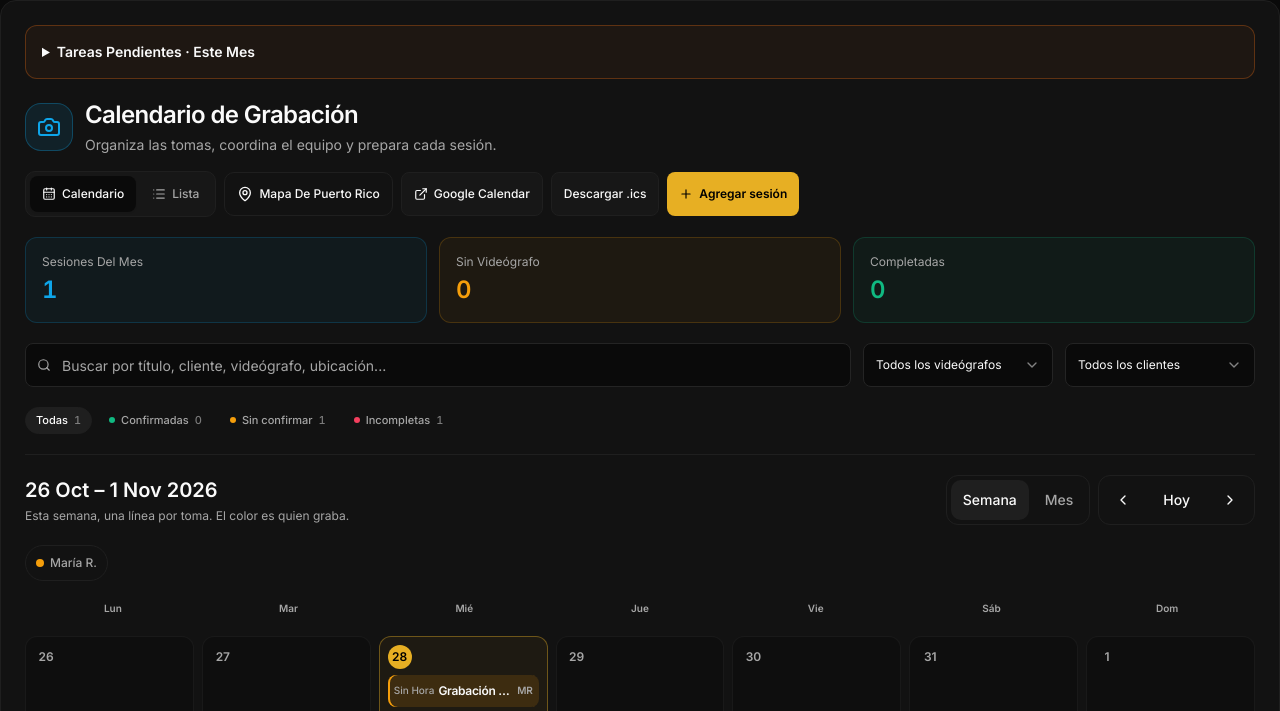
Test case: explains that a client link is needed before resolving its editor
What coordinates should you click on to do the following:
click the button "Lista"
I would click on:
 (176, 194)
Its box is 140,176 -> 211,212.
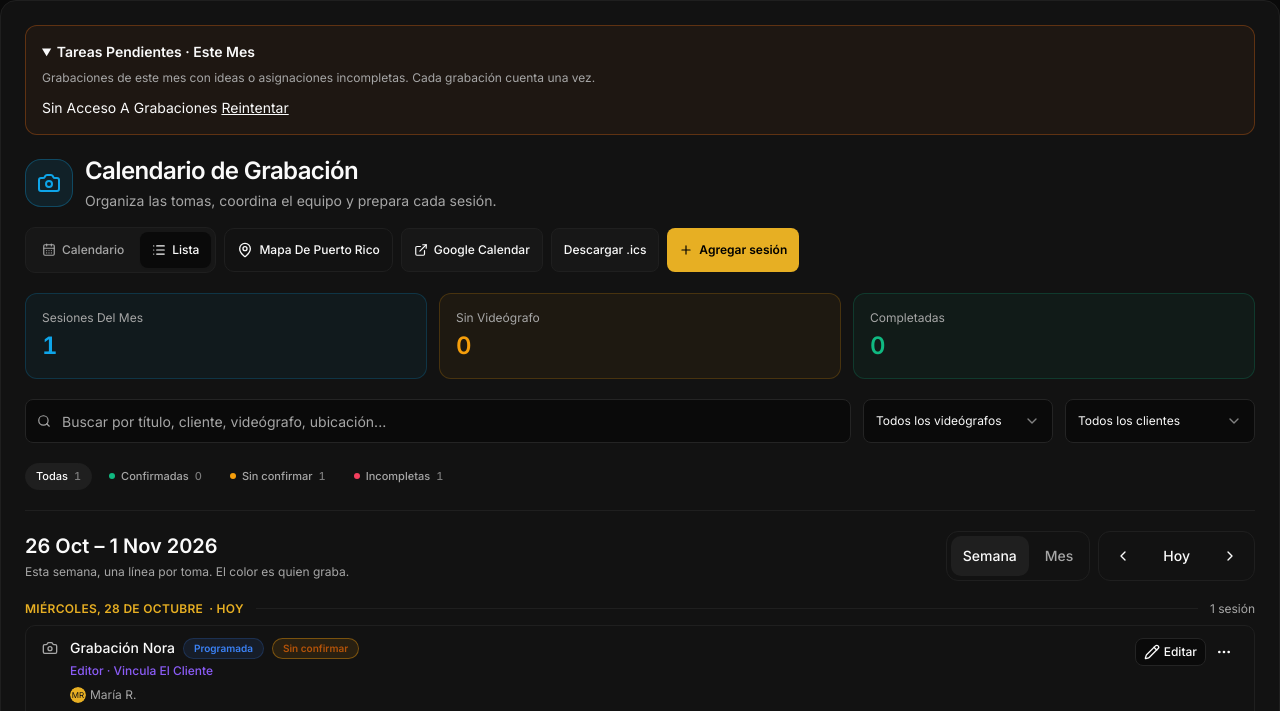
Expected: the text "Editor · Vincula El Cliente" is shown, 70,662 -> 213,678
